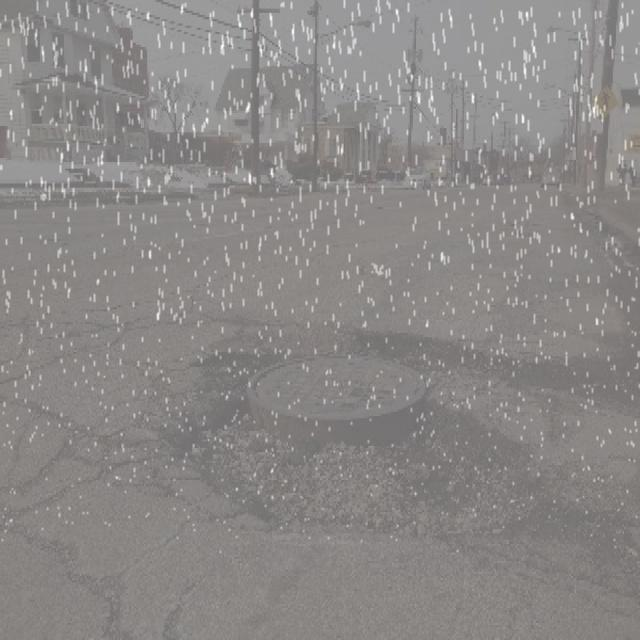Pothole: (144, 304, 640, 580)
